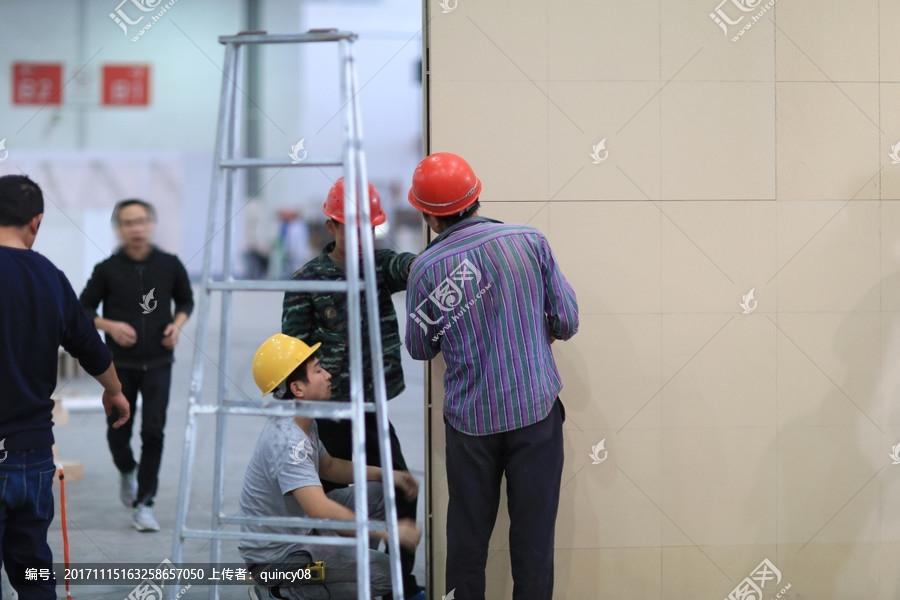helmet: (242, 329, 333, 395), (407, 152, 484, 212)
no_wear: (417, 232, 560, 418), (241, 417, 329, 564), (1, 168, 52, 255)
